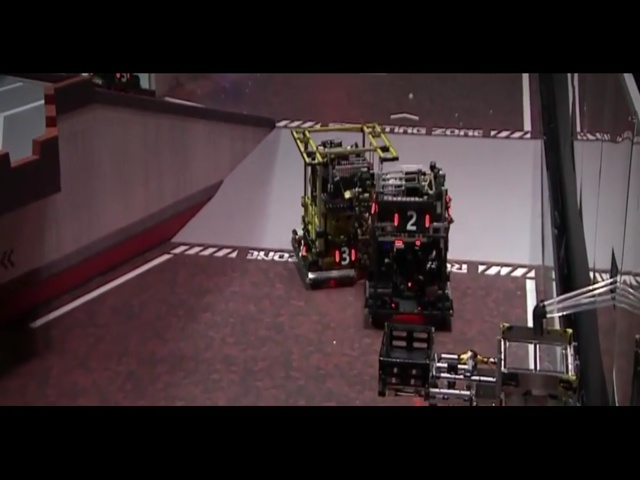bluePlate: (443, 322, 474, 351), (509, 331, 538, 359), (304, 169, 324, 194), (261, 177, 288, 195), (438, 146, 454, 165)
redPlate: (71, 362, 121, 394), (142, 351, 178, 386), (379, 186, 399, 214), (403, 194, 417, 210)
